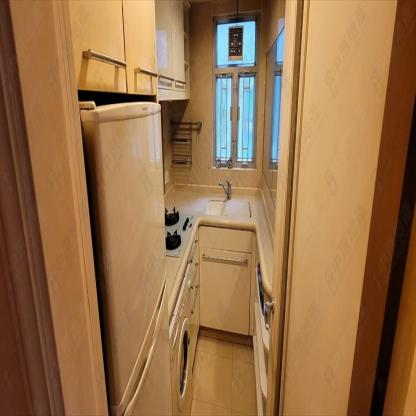Cupboard: (67, 2, 189, 99), (189, 227, 253, 366)
Exhaust Fan: (227, 24, 244, 62)
Faucet: (217, 176, 232, 200)
Fridge: (79, 98, 173, 415)
Sink: (205, 198, 250, 220)
Stove: (165, 200, 192, 255)
Washing Machine: (169, 268, 194, 415)
